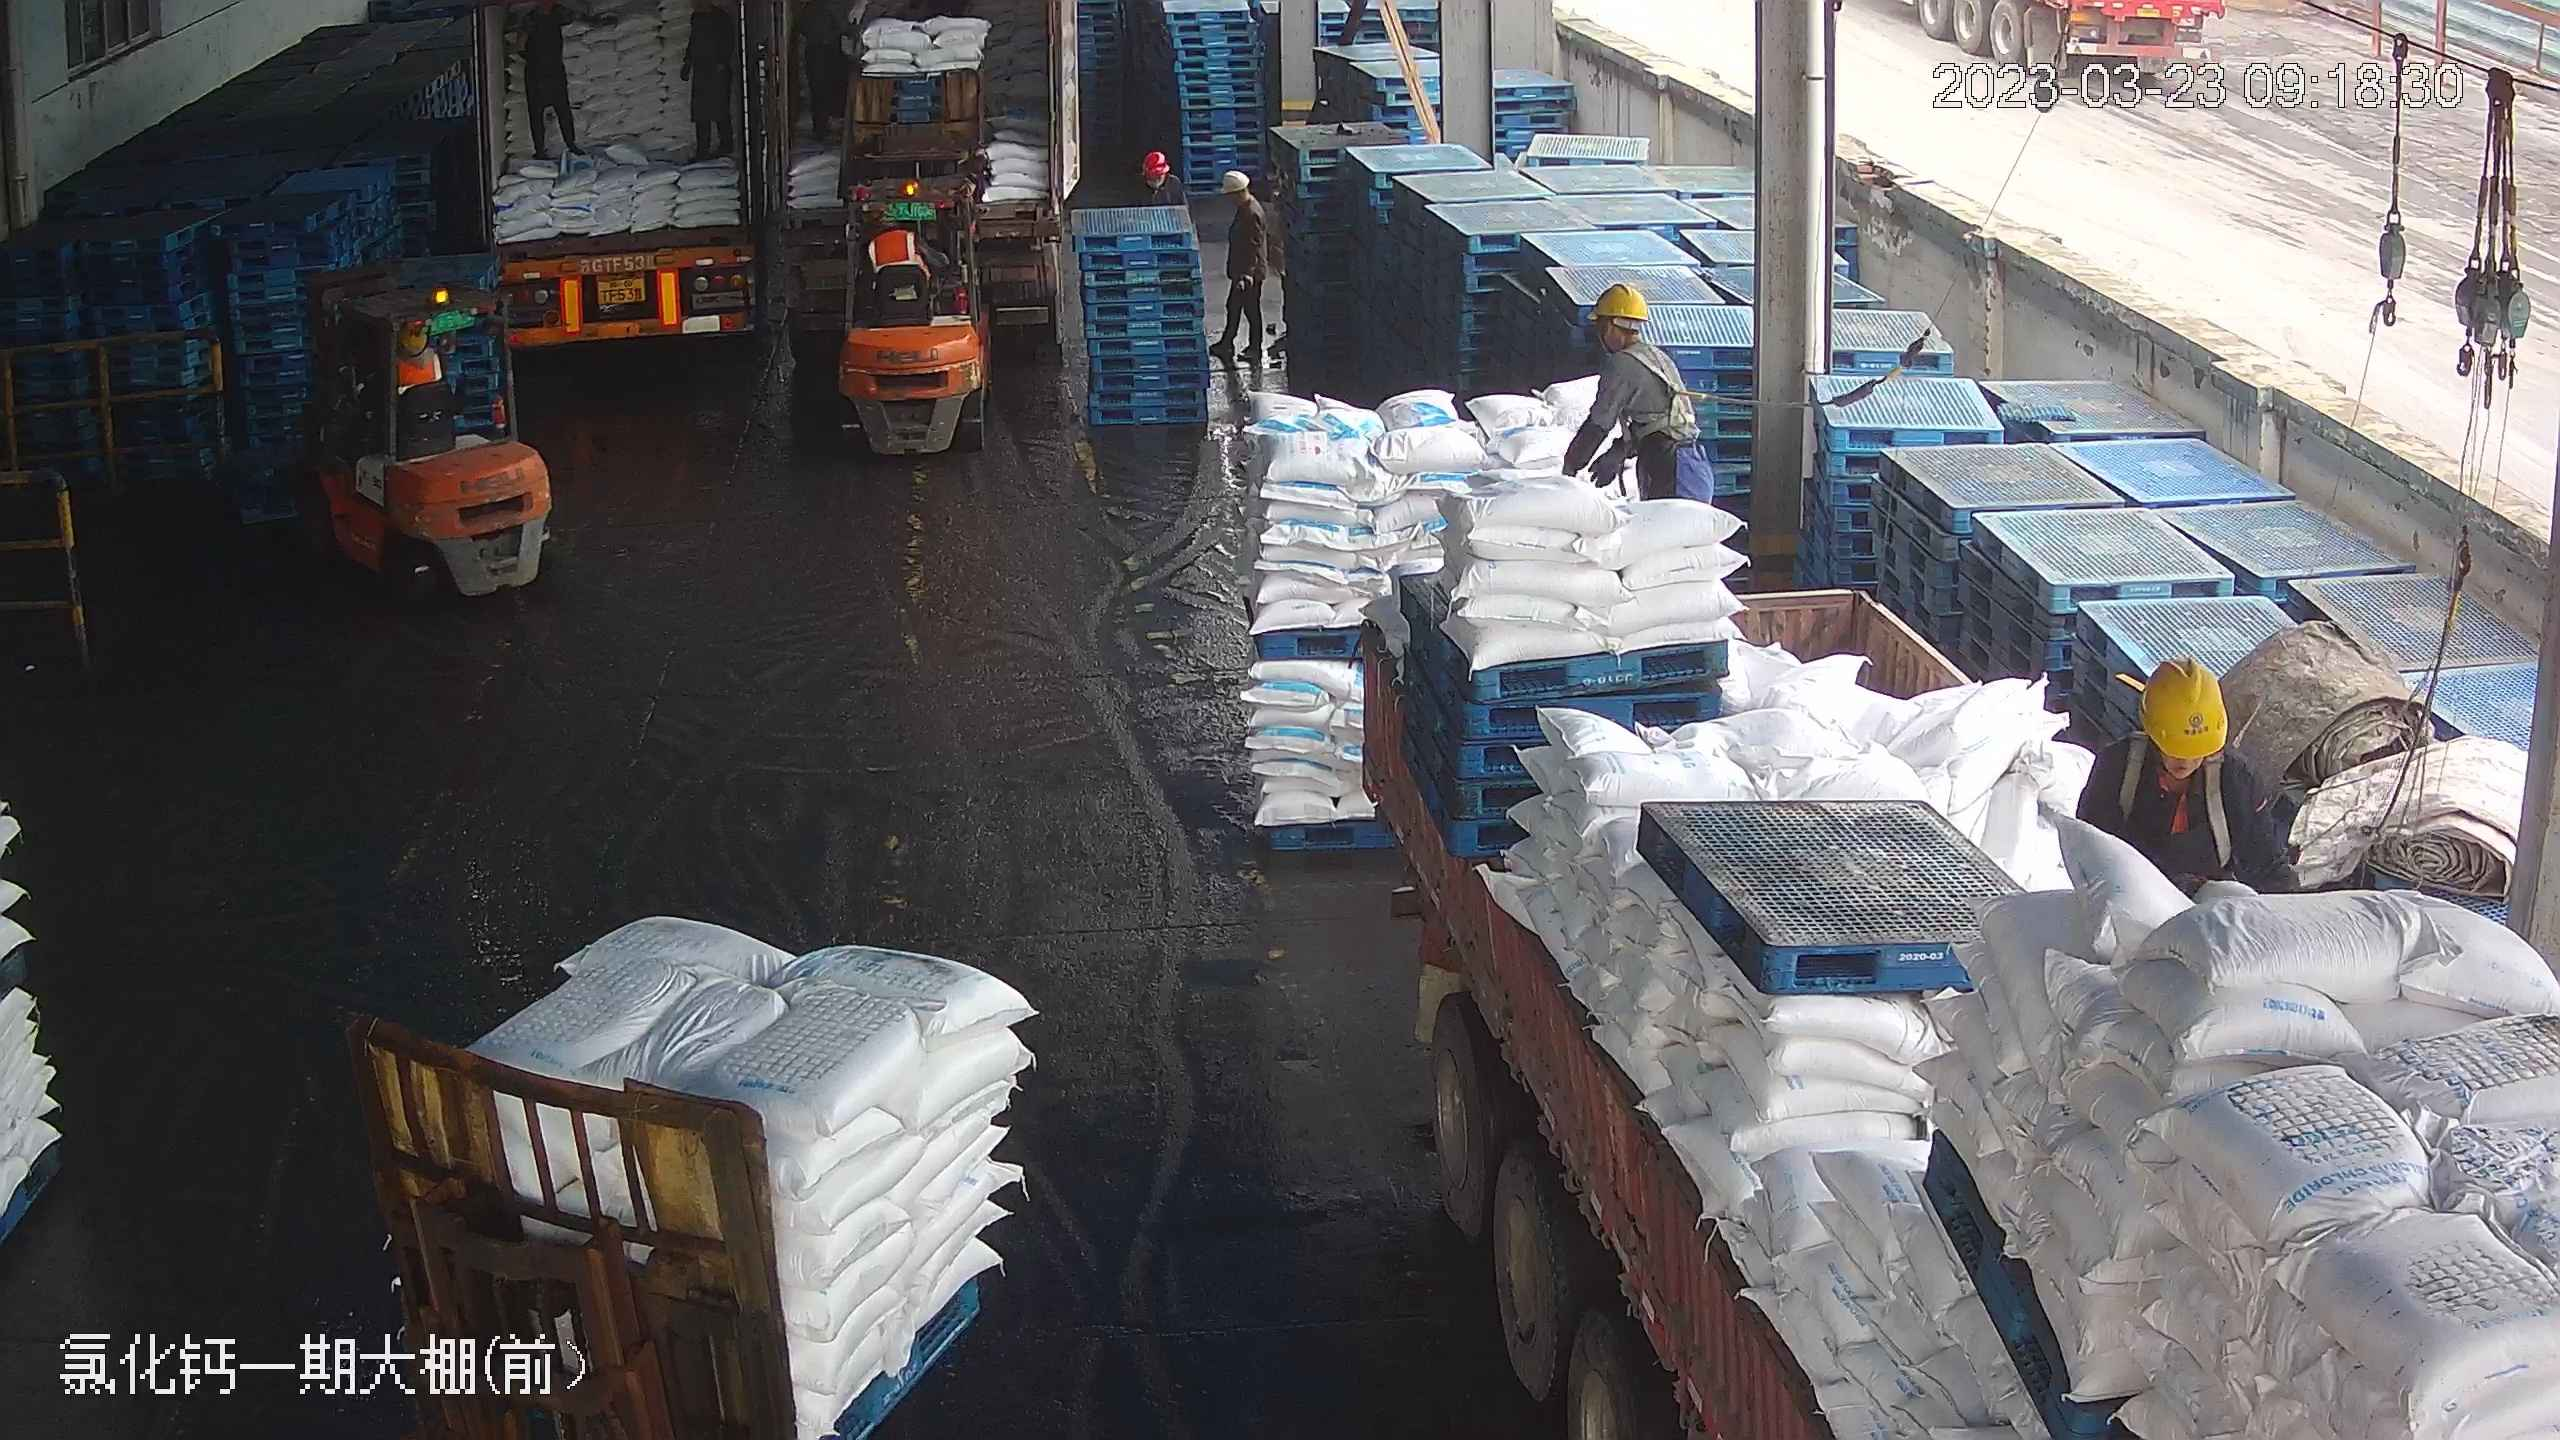belt: (2131, 733, 2228, 850), (1609, 340, 1699, 435)
head: (2082, 649, 2271, 808), (1580, 279, 1688, 381), (1129, 147, 1183, 208), (1216, 170, 1264, 231)
helmet: (2137, 653, 2230, 758), (1583, 279, 1649, 326), (1218, 168, 1252, 197), (1136, 146, 1168, 173)
people: (1560, 277, 1701, 507), (1213, 168, 1269, 373), (684, 1, 743, 167), (520, 6, 581, 164)
truck: (1284, 288, 2541, 1440), (464, 2, 790, 352)
